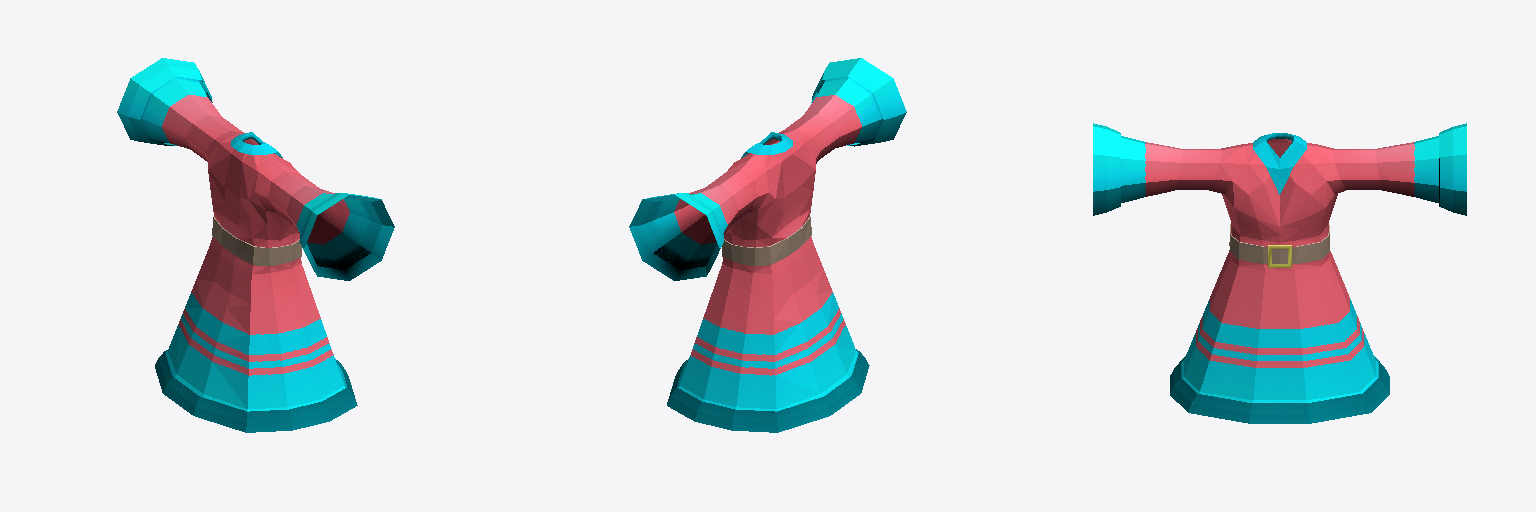
3 views of the same model, side by side, from view 1: azimuth 30°, elevation 25°; view 2: azimuth 150°, elevation 25°; view 3: azimuth 270°, elevation 25° (orthographic).
Visible parts, largest first — view 1: Cube6.001; view 2: Cube6.001; view 3: Cube6.001.
Boxes of the visible parts, box(x1,y1,x2,y2) form: Cube6.001: box(117, 58, 394, 432); Cube6.001: box(629, 58, 906, 432); Cube6.001: box(1093, 123, 1466, 423).
Bounding box in the file's own units: 1.96 × 3.12 × 4.08.
1 materials, 1 textured.